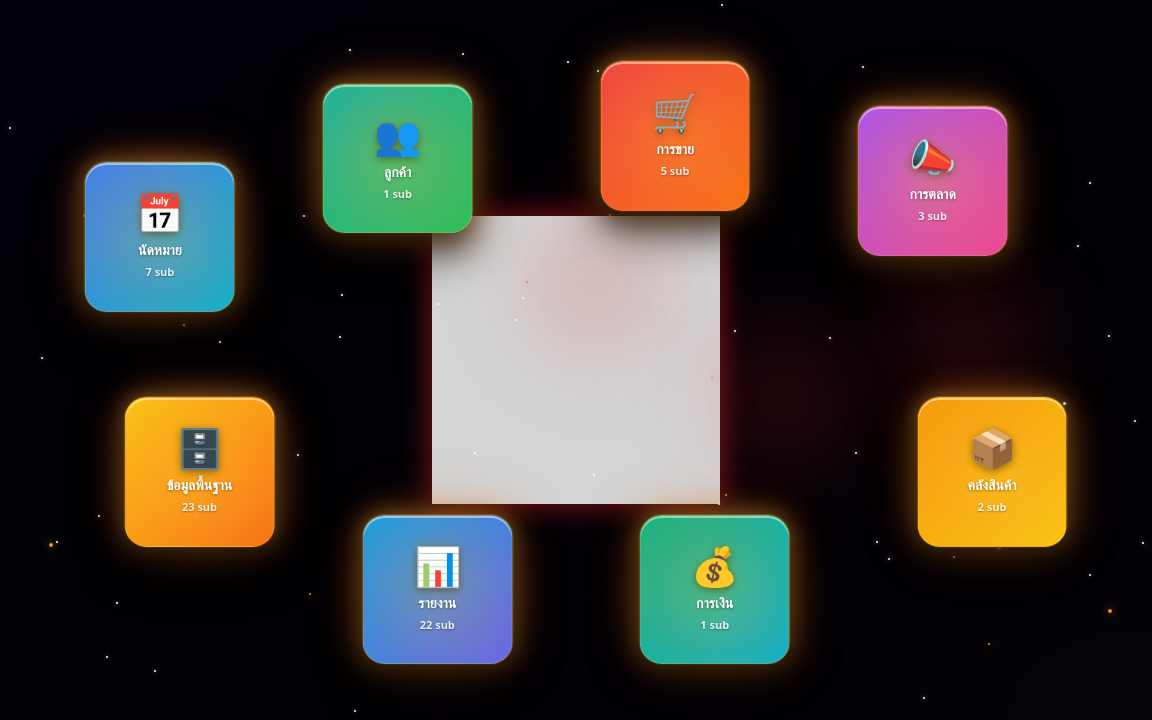
Test: Backend Menu D — ArcBloom RTL › T3.4 (V21-T6 fixup) multi-item orb click opens sub-tab picker instead of direct navigating
Click the menu item "📅 นัดหมาย 7 sub" at (160, 237), box [85,162,235,312]
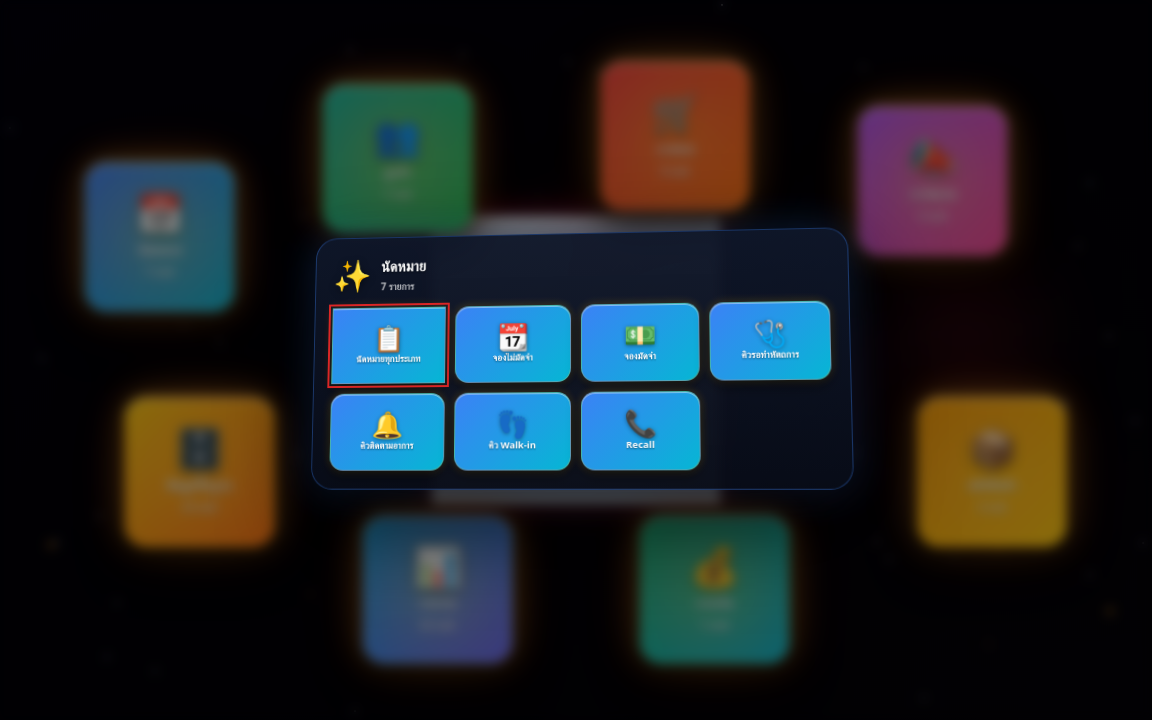
Check: the dialog with test id "subtab-overlay" is shown
